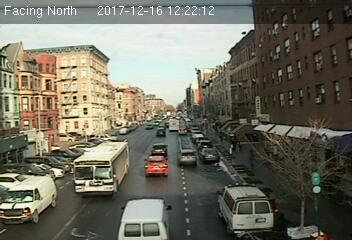bus: (72, 138, 130, 195)
car: (142, 154, 169, 176), (177, 147, 198, 168), (199, 148, 222, 163), (151, 143, 170, 157)
police: (216, 182, 277, 233)
